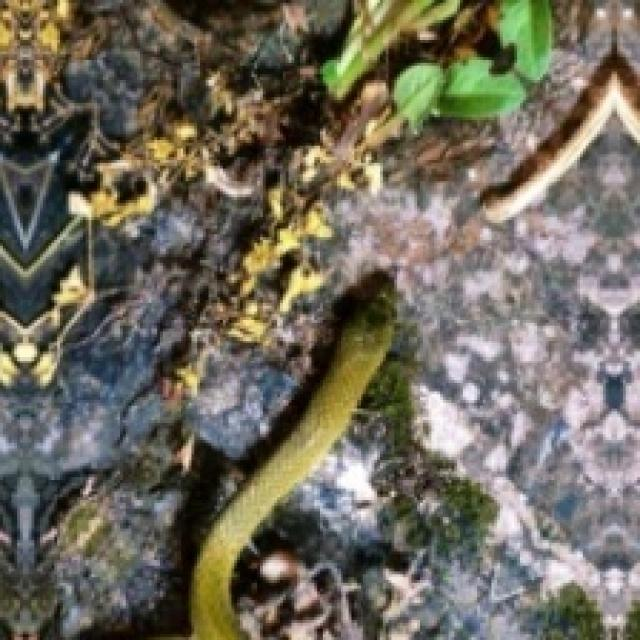gunthers philippine shrub snake: (189, 271, 391, 637)
